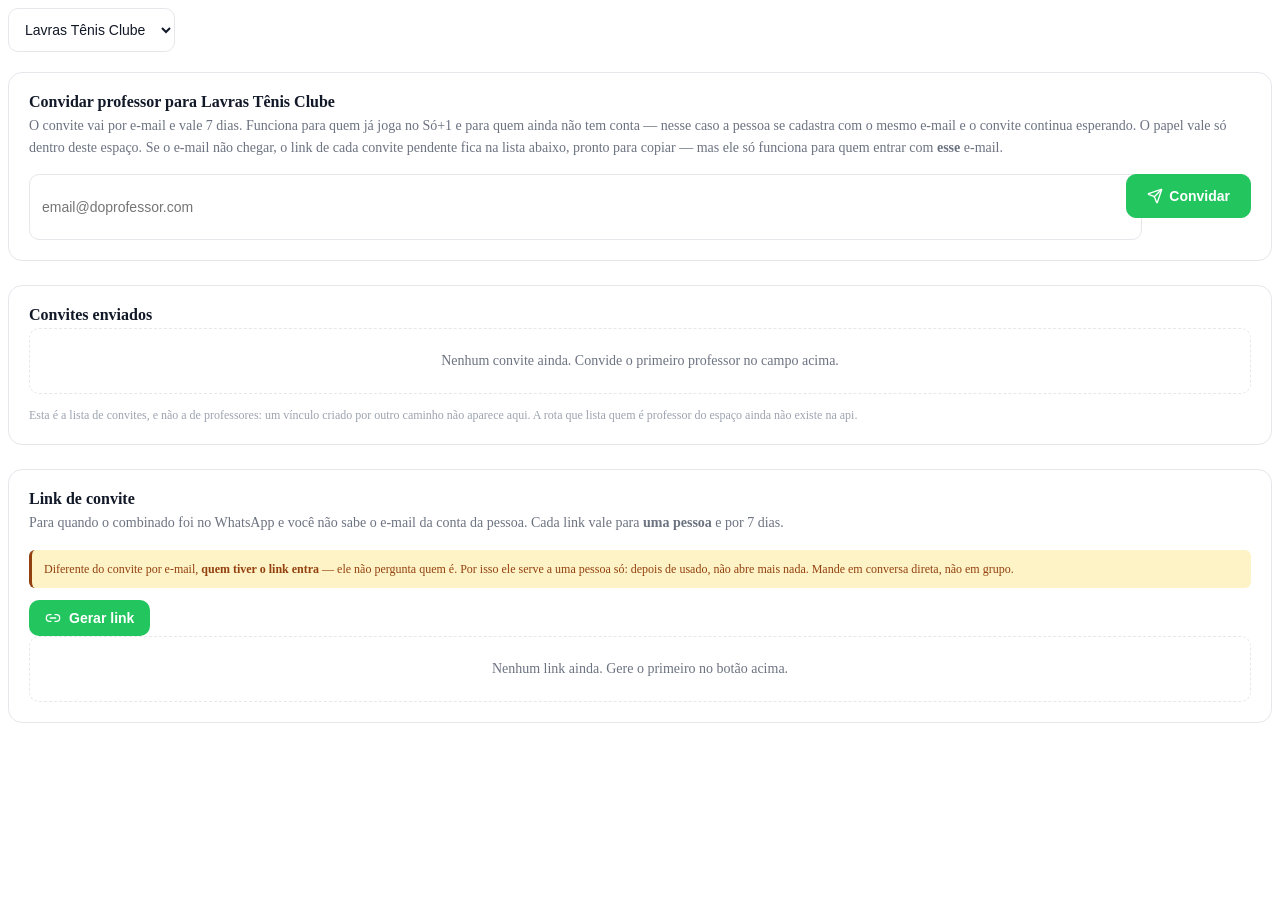
Test: OwnerProfessores › não manda e-mail inválido para a api
The image size is (1280, 900).
Type "não-é-email" into the field named "E-mail do professor".
click(586, 207); type("não-é-email")  # box [29,174,1142,240]
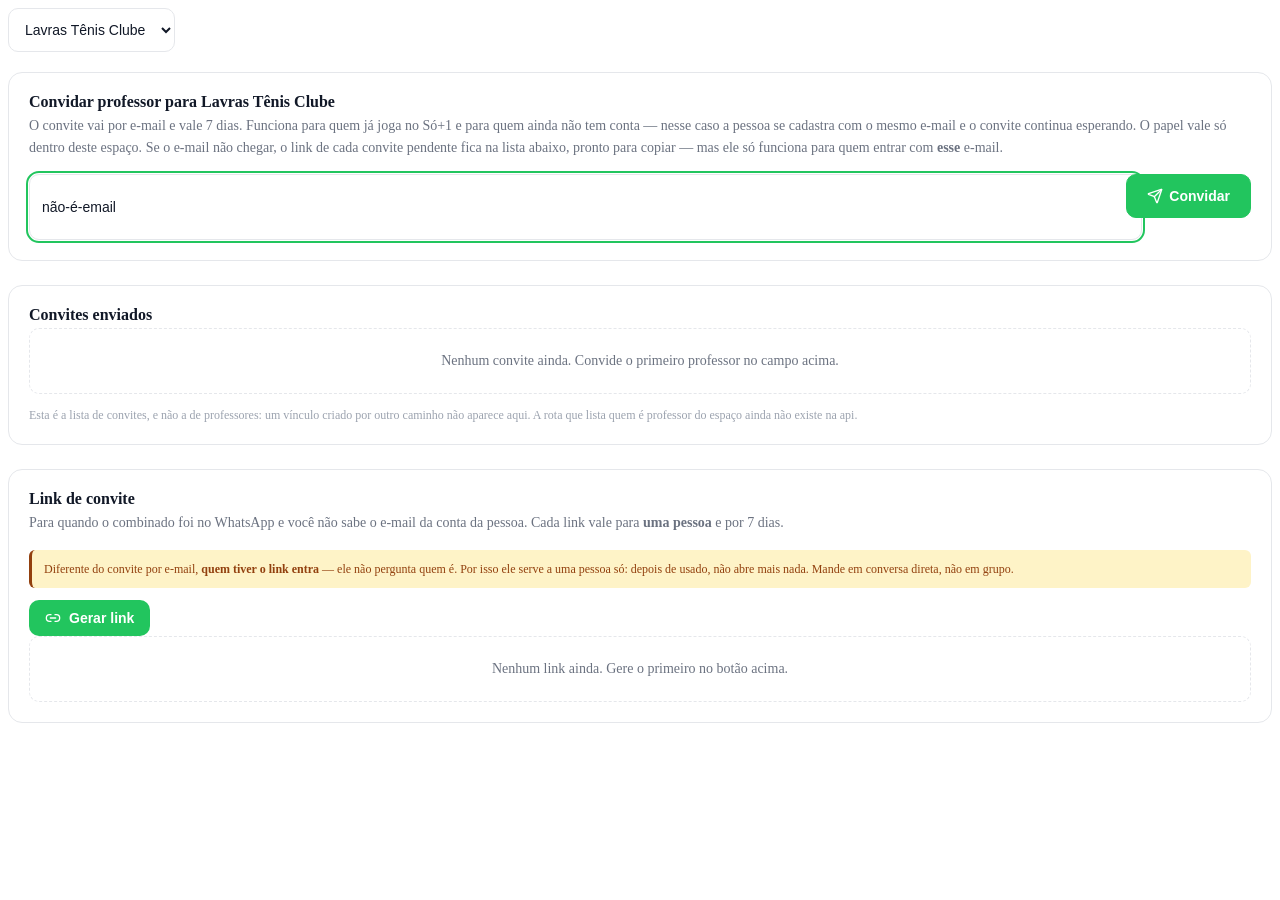
Click the button "Convidar".
click(1189, 196)  # box [1126,174,1251,218]
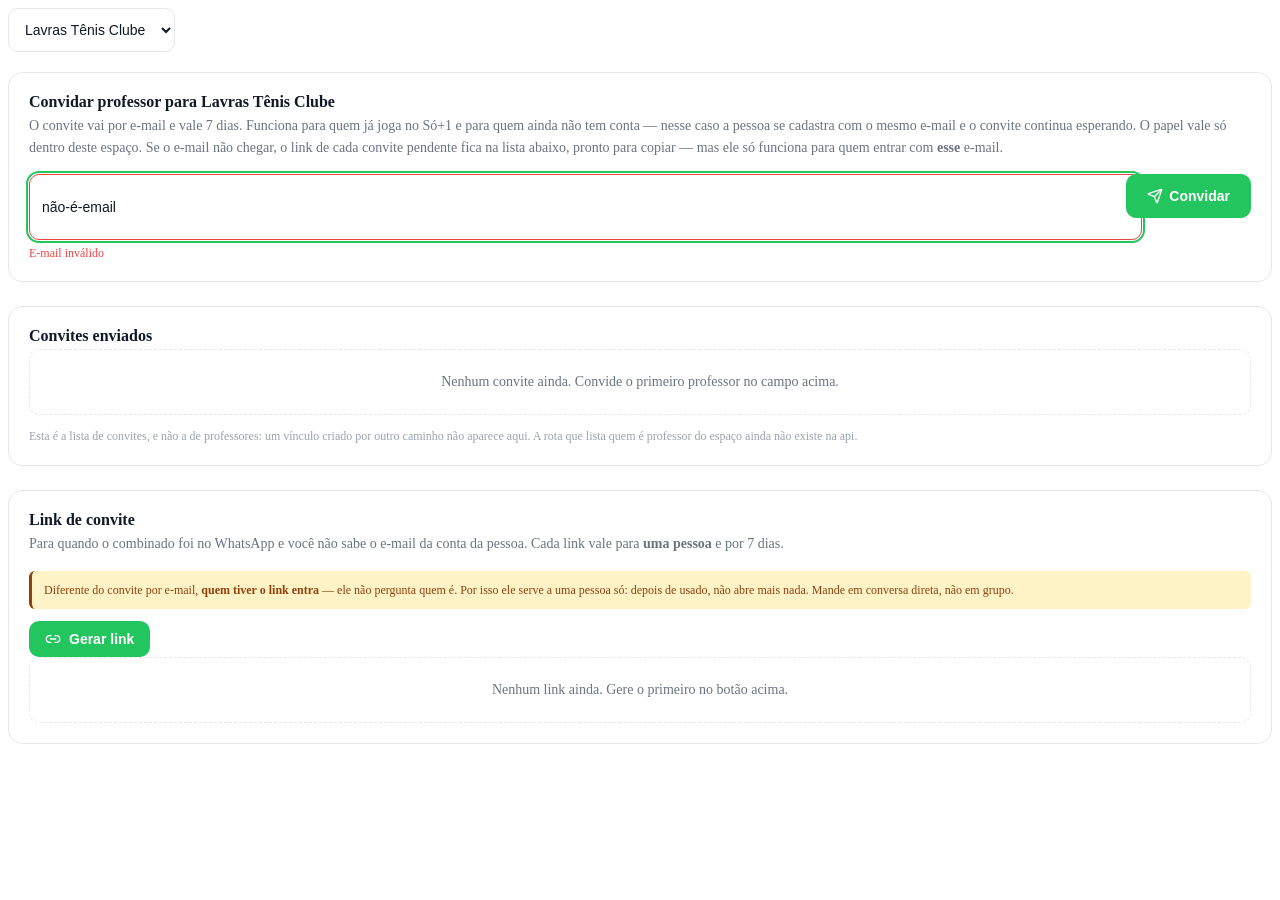
Result: the text "E-mail inválido" is shown at [29,246,104,260]
